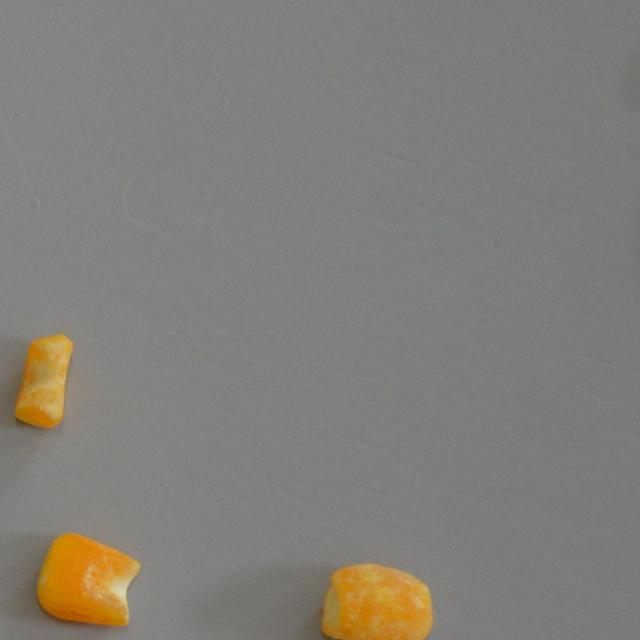pelicula: (32, 532, 144, 626), (319, 562, 432, 640), (14, 332, 72, 428)
